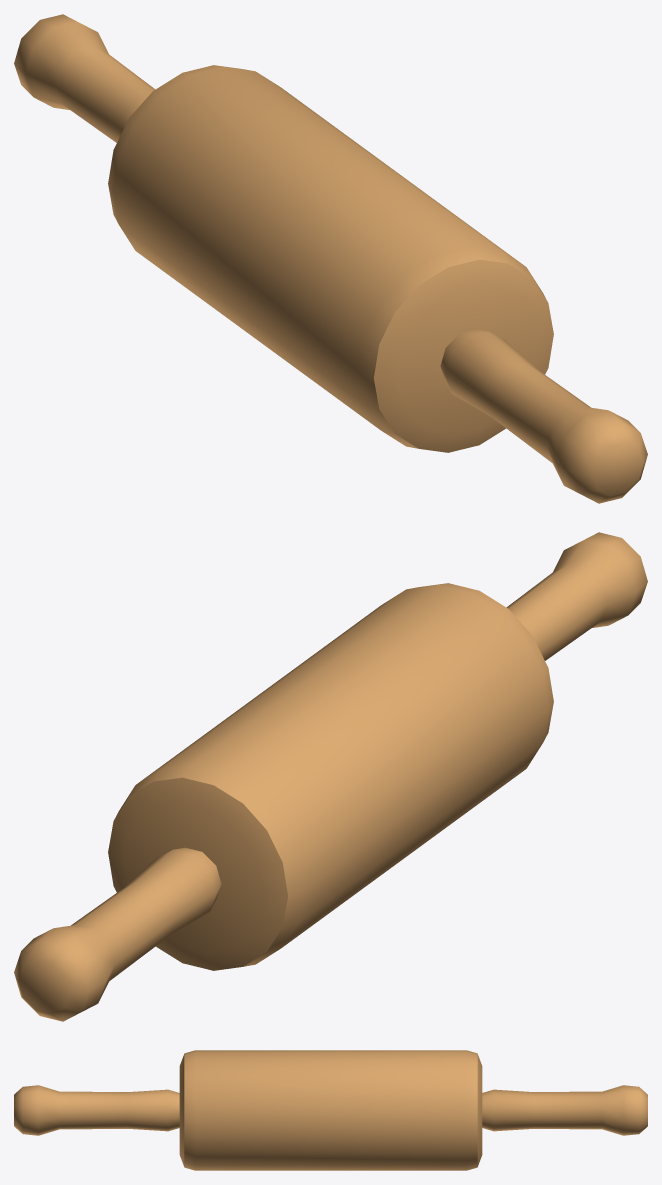
Rendered from Cosmetic_Spatula_RollingPin.fbx.
3 renders of one model, top to bottom at view 1: azimuth 30°, elevation 25°; view 2: azimuth 150°, elevation 25°; view 3: azimuth 270°, elevation 25°, orthographic. The views are drawn at different scales.
Visible parts, largest first — view 1: Pin; view 2: Pin; view 3: Pin.
Boxes of the visible parts, box(x1,y1,x2,y2) form: Pin: box(14, 14, 647, 503); Pin: box(14, 532, 647, 1021); Pin: box(14, 1050, 647, 1170).
Bounding box in the file's own units: 38 × 37.42 × 199.
